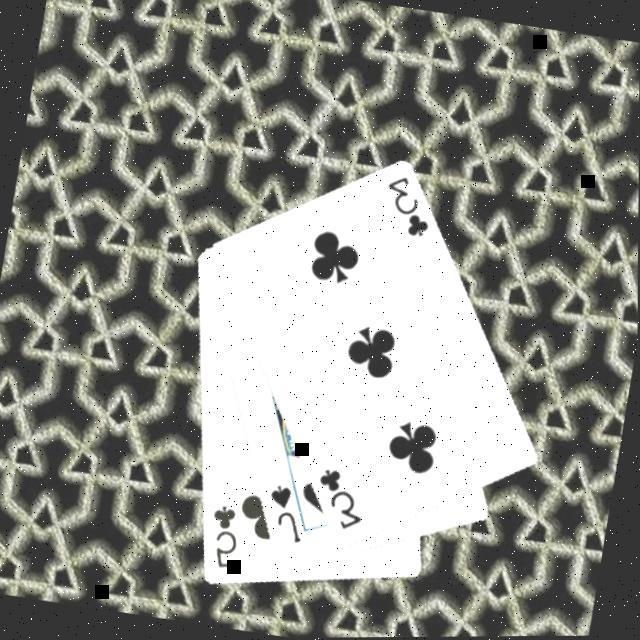3C: (307, 462, 373, 536), (374, 168, 440, 242)
5C: (201, 499, 247, 572)
JS: (259, 478, 313, 546)
